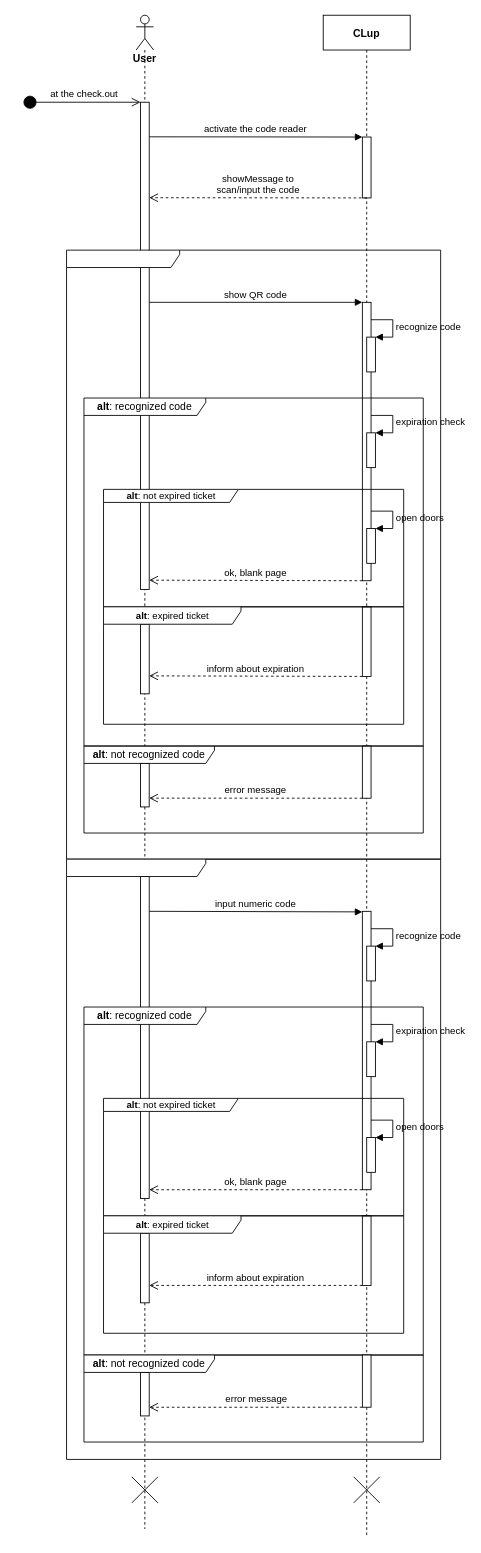
Image size: 481x1553. Some labels were removed from this diagram. The shapes that lost their labels are listed below. From the top down, each one's centre as x and y in pixels, then its label:
point (253, 554): alt : uses QR code
point (253, 1158): alt : uses numeric code
